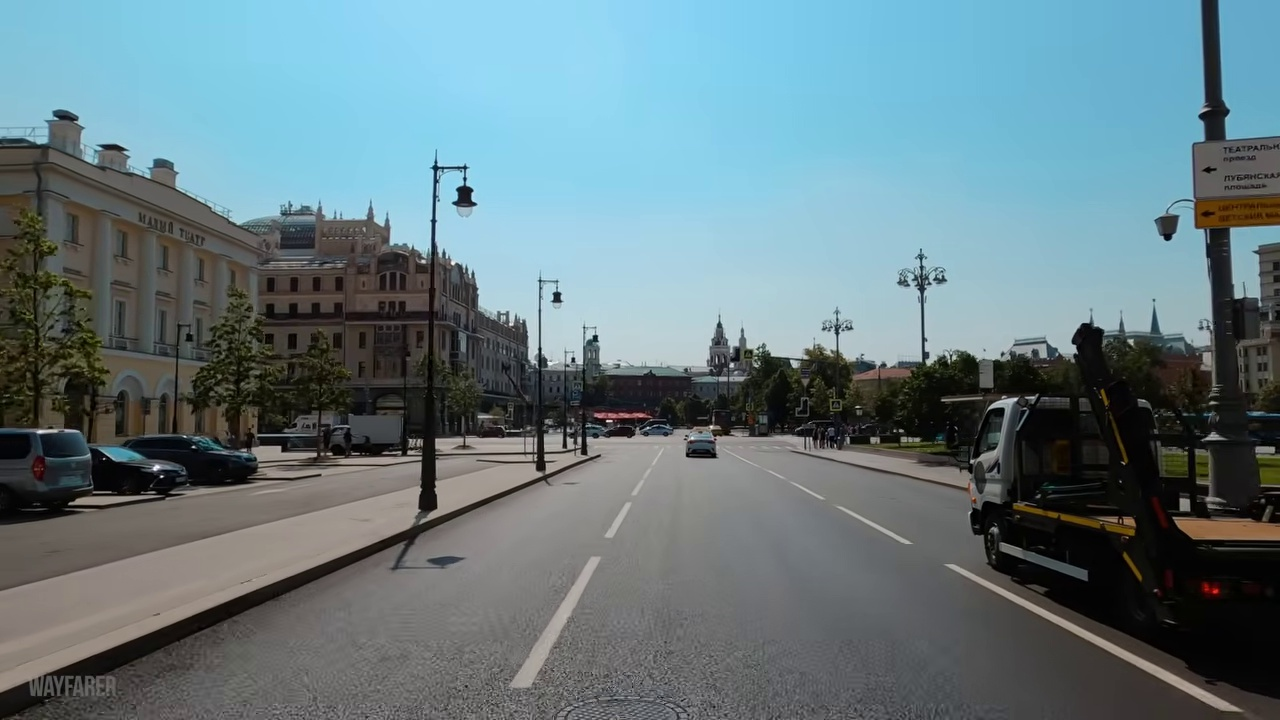apagada: (894, 263, 947, 301), (448, 183, 479, 214), (1151, 215, 1180, 248), (542, 285, 565, 311)
